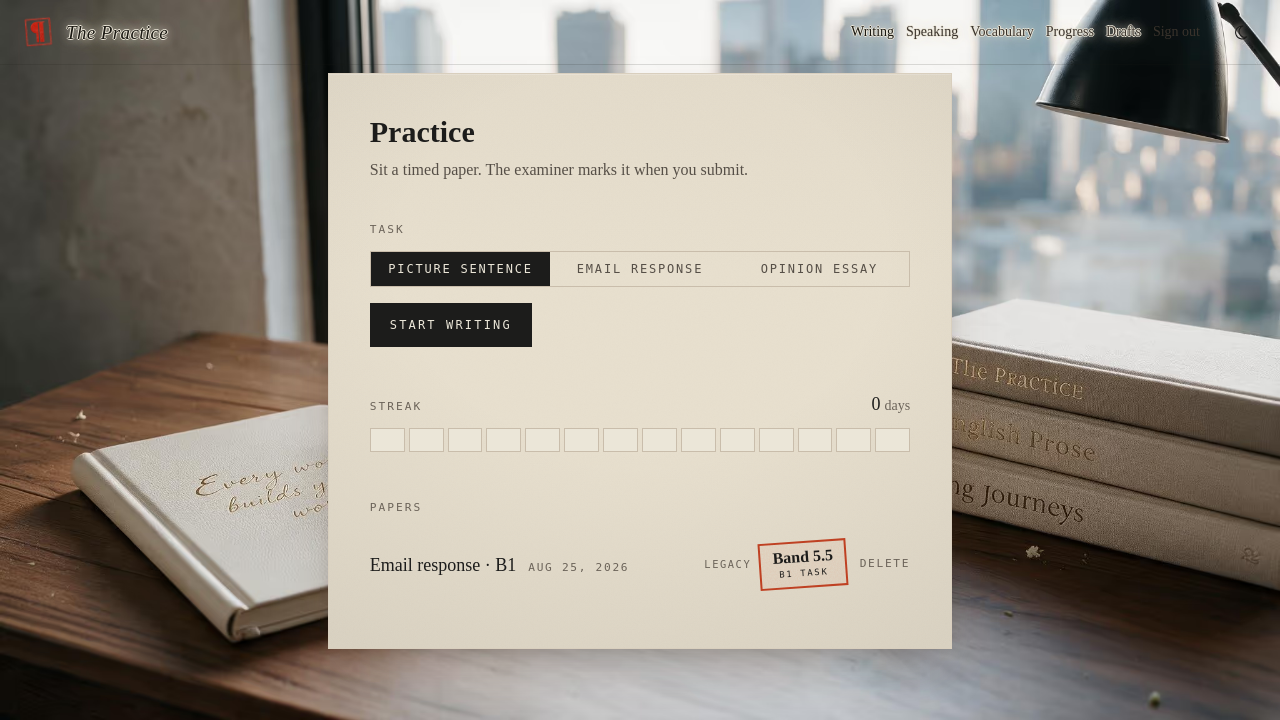
Test: PracticePage papers list › deletes a paper after confirming
Click the button with aria-label "Delete this paper" at (885, 565), box x1=860 y1=556 x2=910 y2=573
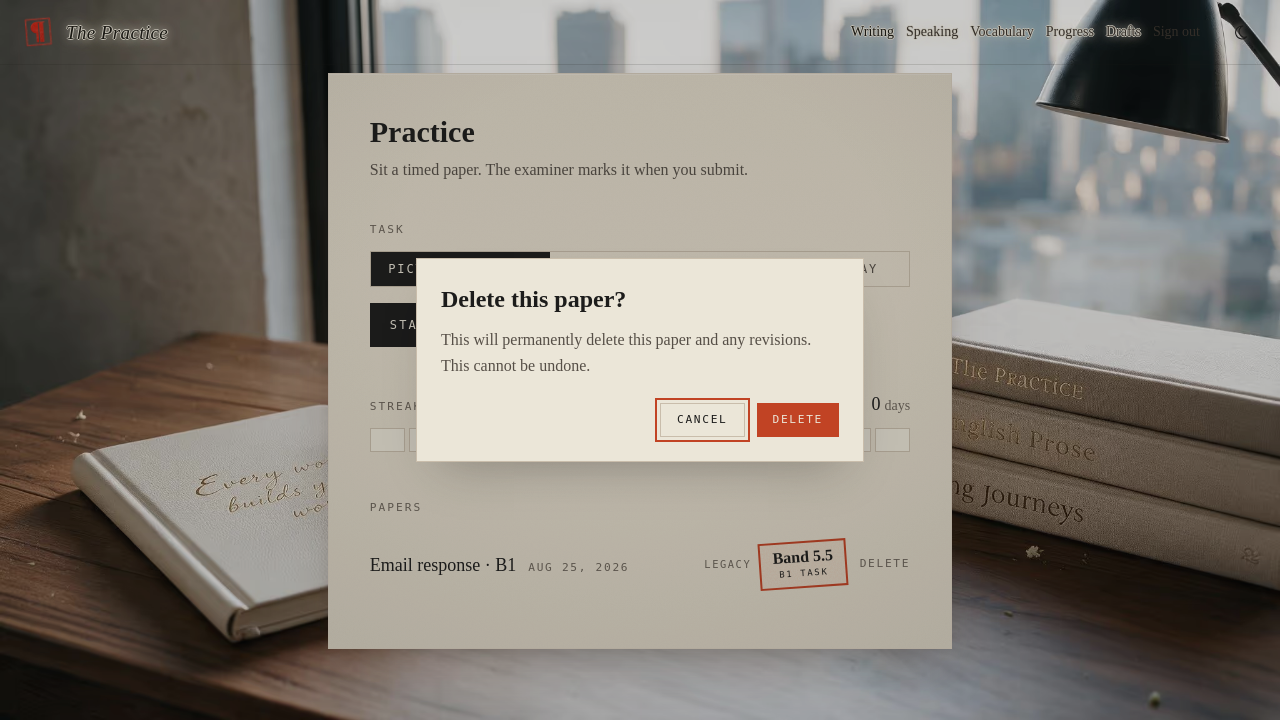
Click the button "Delete" at (798, 420), box x1=756 y1=403 x2=839 y2=437
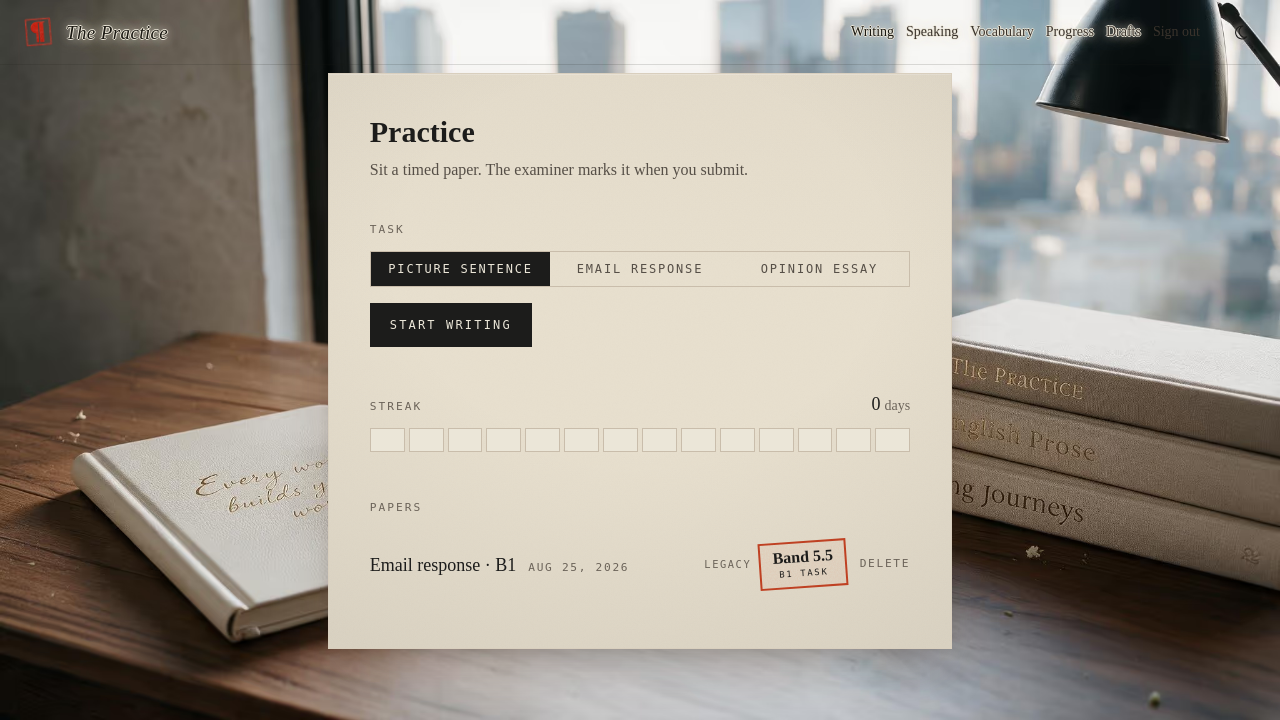
Expected: the dialog is gone
